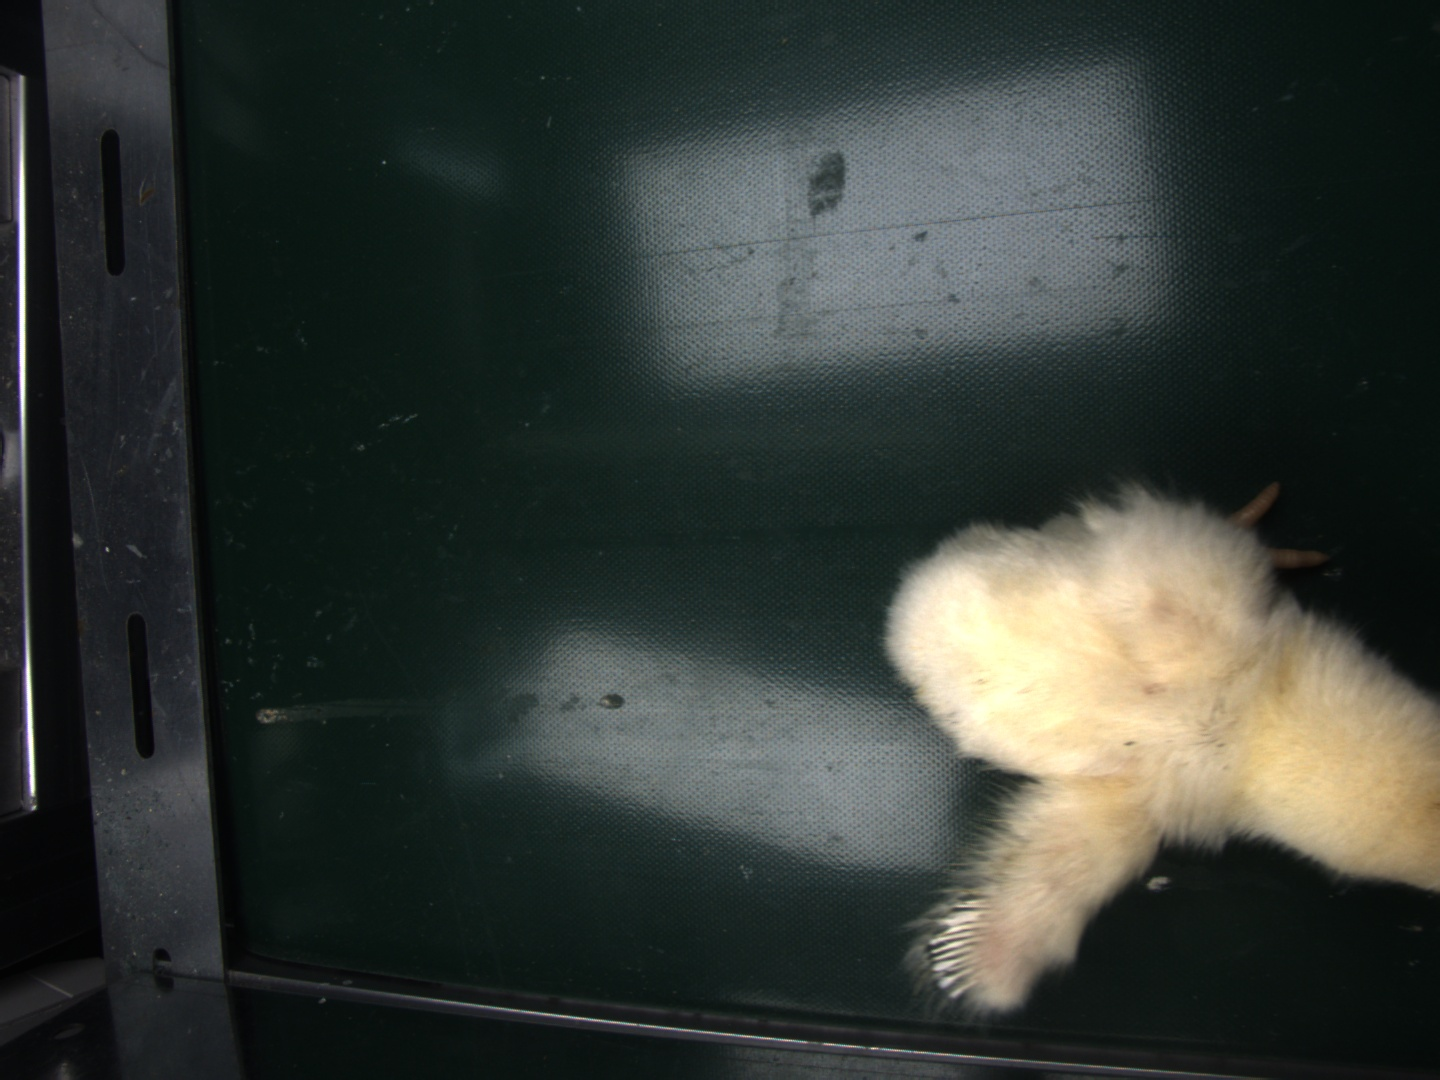male: (934, 901, 991, 998)
